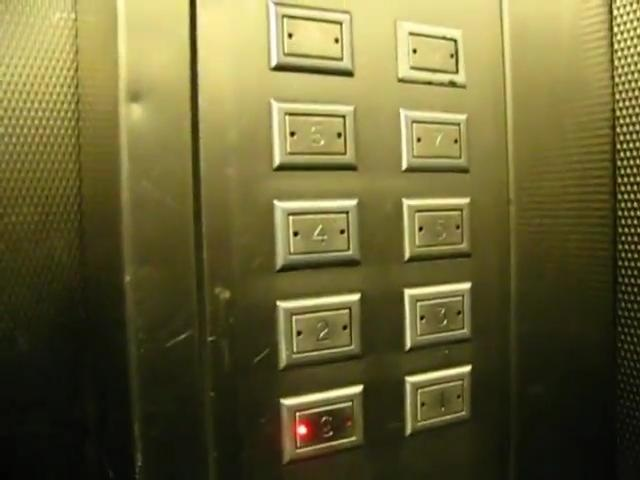1: (404, 364, 474, 436)
2: (274, 290, 364, 371)
3: (403, 281, 473, 351)
4: (271, 196, 363, 272)
5: (269, 97, 358, 170), (401, 198, 473, 263)
7: (398, 106, 471, 172)
blur: (278, 384, 367, 465)
empty: (268, 1, 354, 78), (395, 18, 469, 90)
